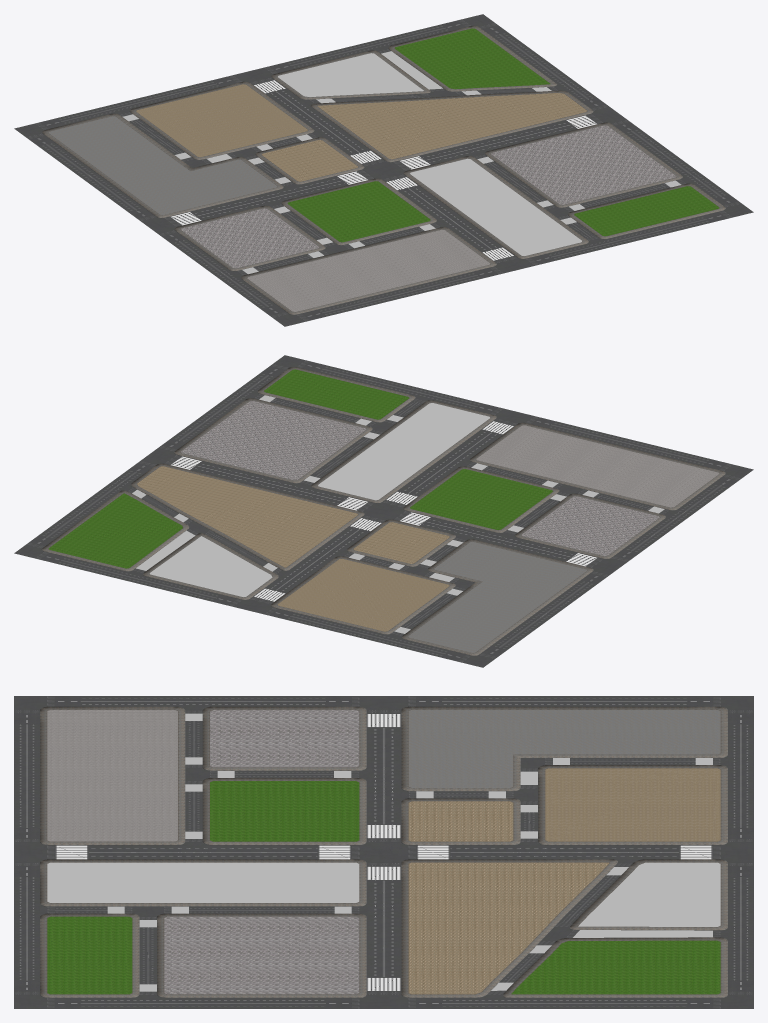
File: ROAD_CityBlockC.obj
The picture shows the model from 3 angles, top to bottom: view 1: azimuth 30°, elevation 25°; view 2: azimuth 150°, elevation 25°; view 3: azimuth 270°, elevation 25°; orthographic projection. The views are drawn at different scales.
Visible parts, largest first — view 1: ROAD_CityBlockC Mesh; view 2: ROAD_CityBlockC Mesh; view 3: ROAD_CityBlockC Mesh.
Part boxes in pixels (x1,y1,x2,y2): ROAD_CityBlockC Mesh: (14,14,753,326); ROAD_CityBlockC Mesh: (14,355,753,667); ROAD_CityBlockC Mesh: (14,696,753,1008).
Bounding box in the file's own units: 984 × 0.4922 × 984.
